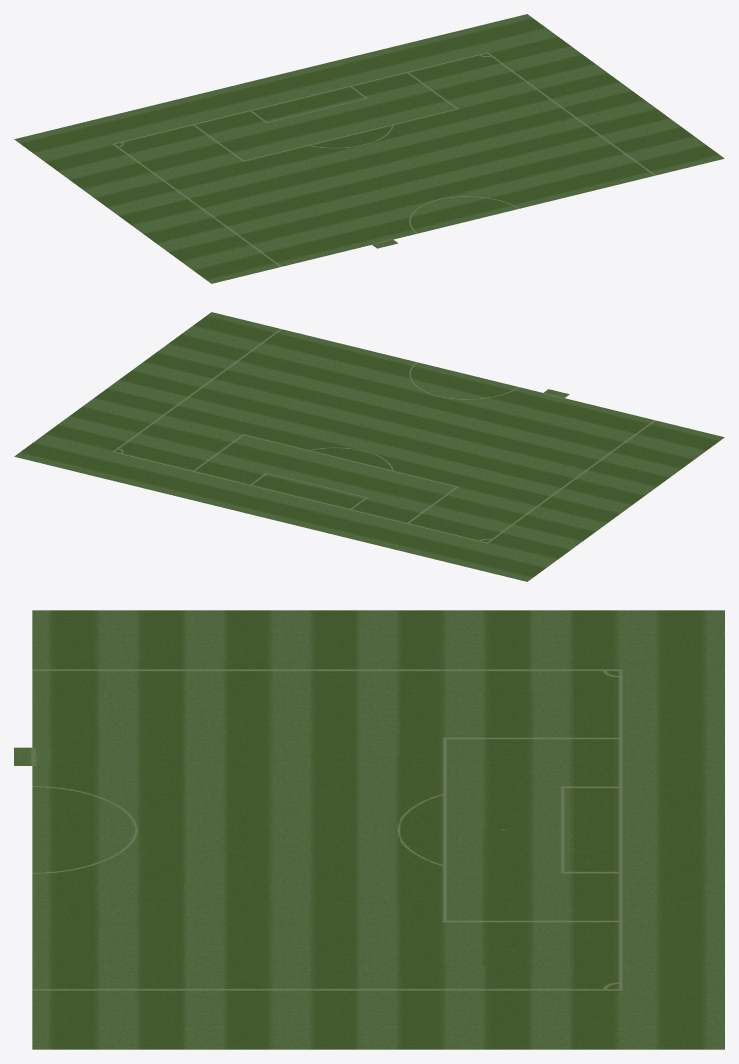
3 views of the same model, one above another, from view 1: azimuth 30°, elevation 25°; view 2: azimuth 150°, elevation 25°; view 3: azimuth 270°, elevation 25° (orthographic). The views are drawn at different scales.
Bounding box in the file's own units: 92.4 × 0 × 63.24.
Materials: 4 (4 with a texture image).
